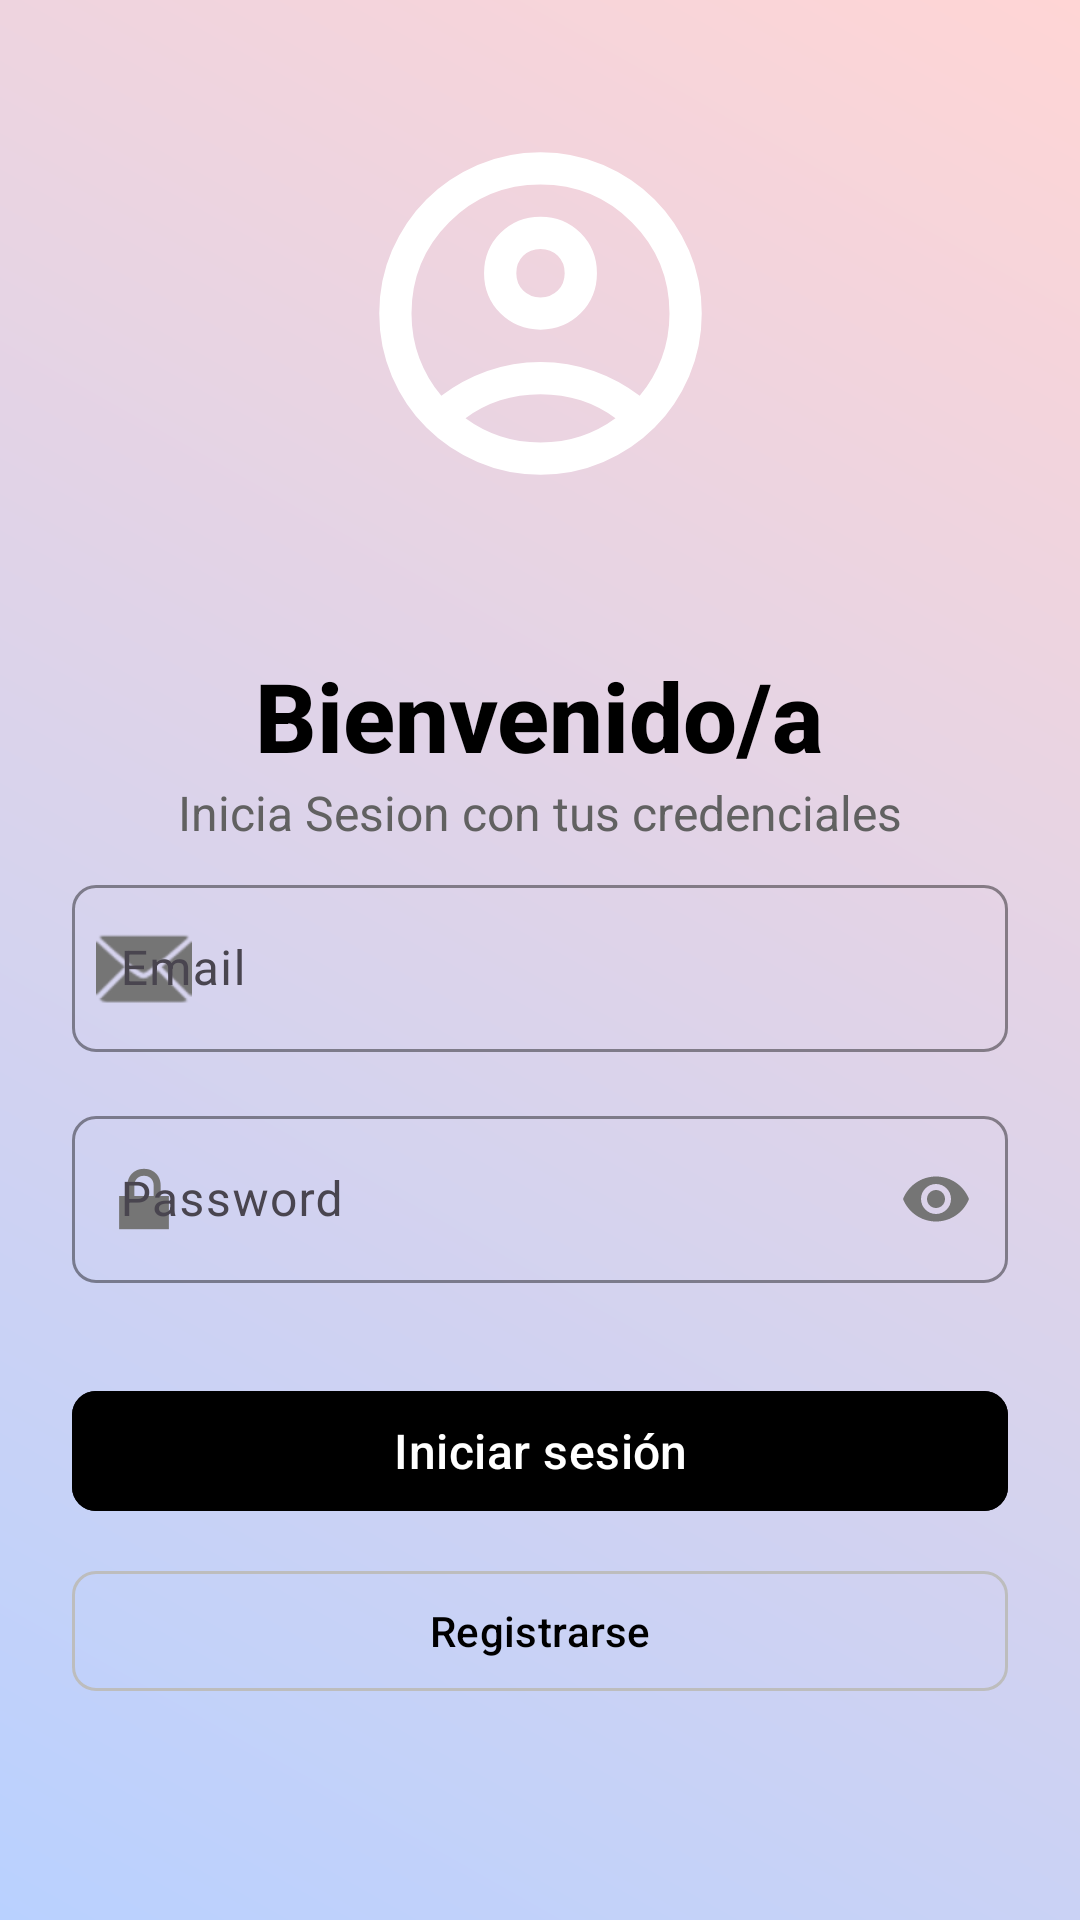

Icons on this 1080 x 1920 Android screen, each with its box as (x1, y1, x2, y2):
account circle: (379, 152, 702, 475)
